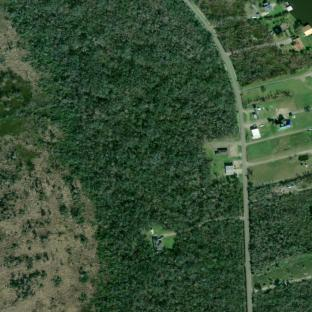Floresta: (4, 0, 249, 312), (251, 187, 312, 270), (230, 46, 312, 86), (253, 280, 312, 312), (215, 19, 271, 50), (192, 0, 247, 22)
